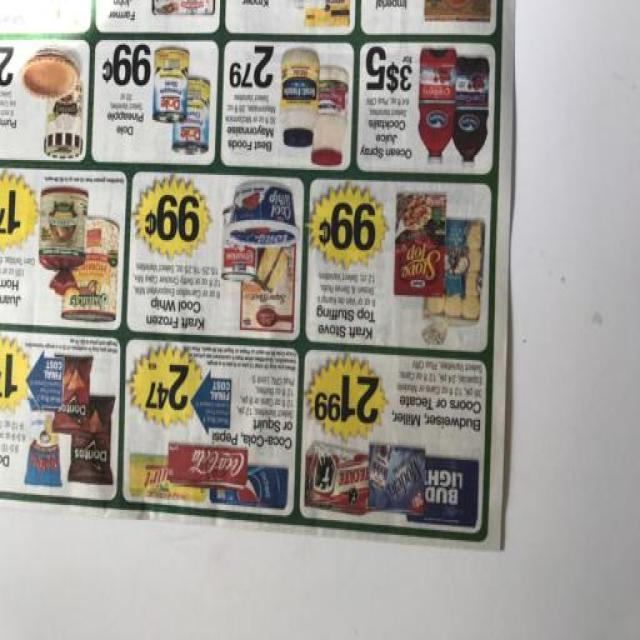paper: (0, 0, 516, 548)
